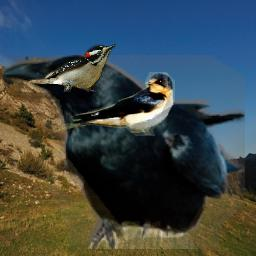Crow: (2, 55, 245, 249)
Swallow: (51, 72, 175, 136)
Woodpecker: (28, 42, 116, 92)
